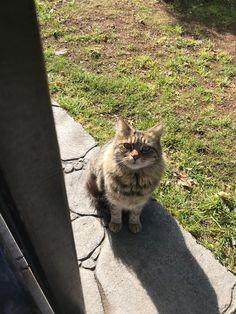kedo: (86, 118, 164, 235)
